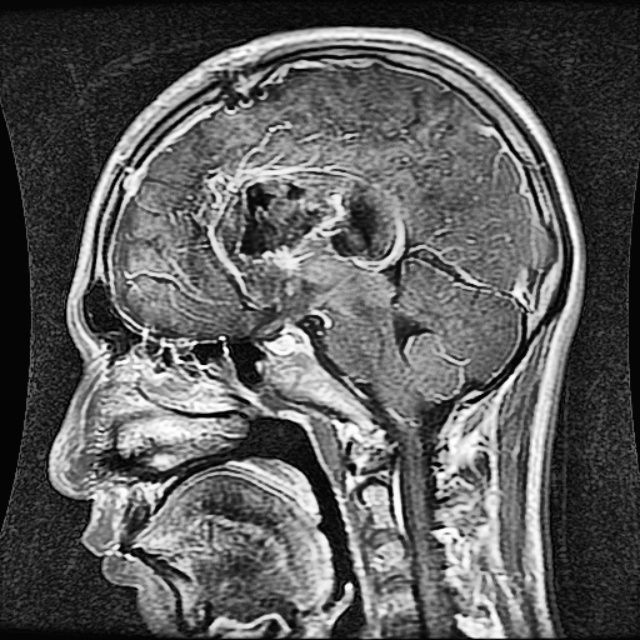Meningioma: (238, 175, 382, 262)
